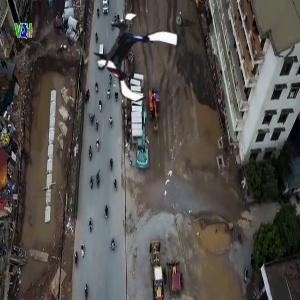drone: (90, 14, 180, 104)
